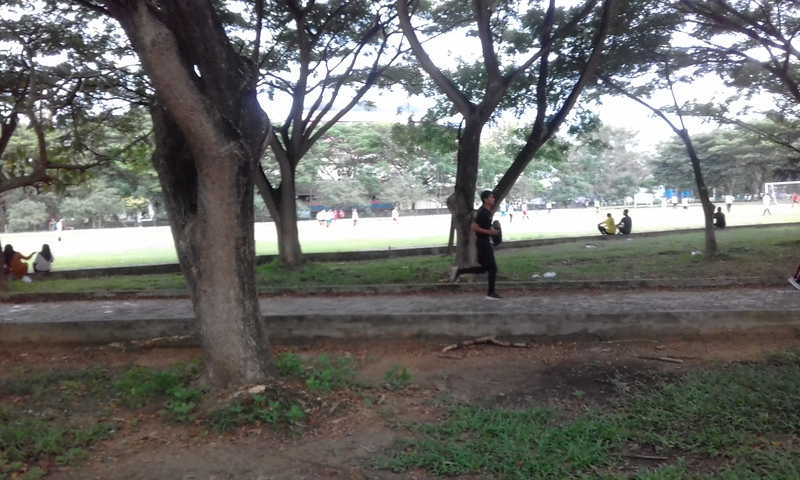person: (448, 186, 508, 304)
